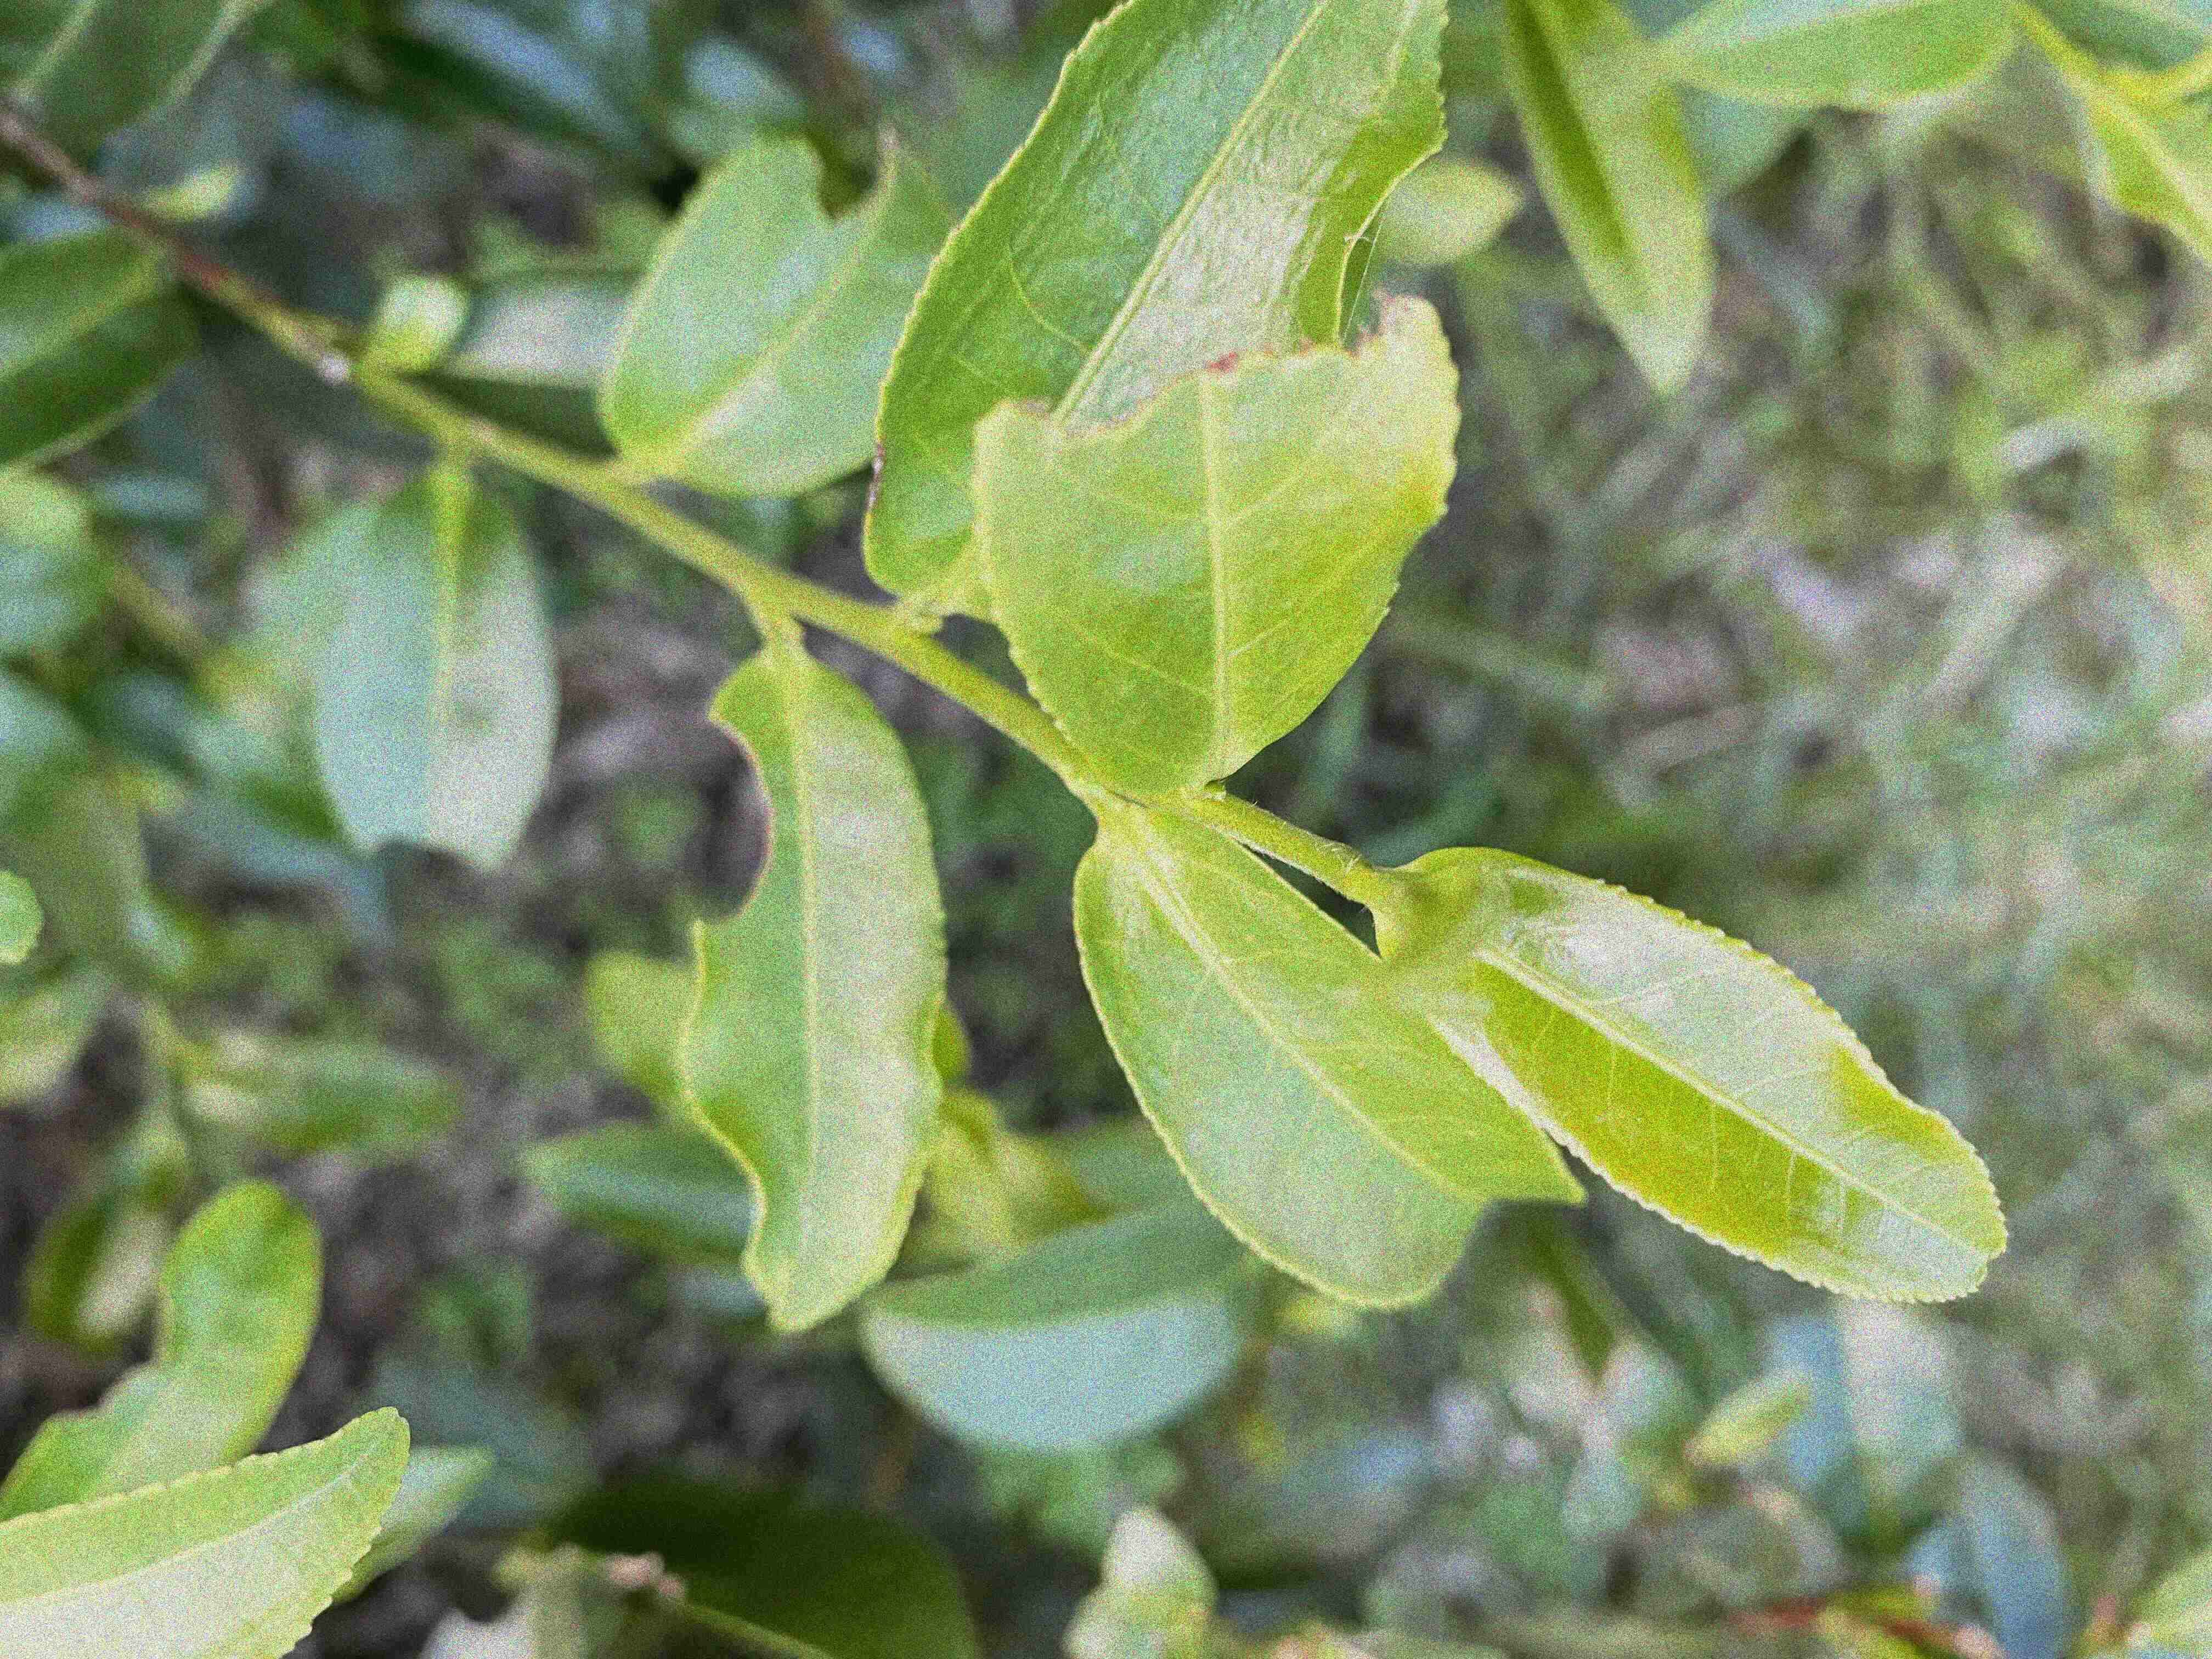chihuo_high: (970, 289, 1467, 793), (672, 643, 953, 1338)
chihuo_low: (599, 129, 958, 509), (308, 465, 564, 880)
healthy: (1369, 842, 2013, 1309), (1066, 807, 1592, 1314)
